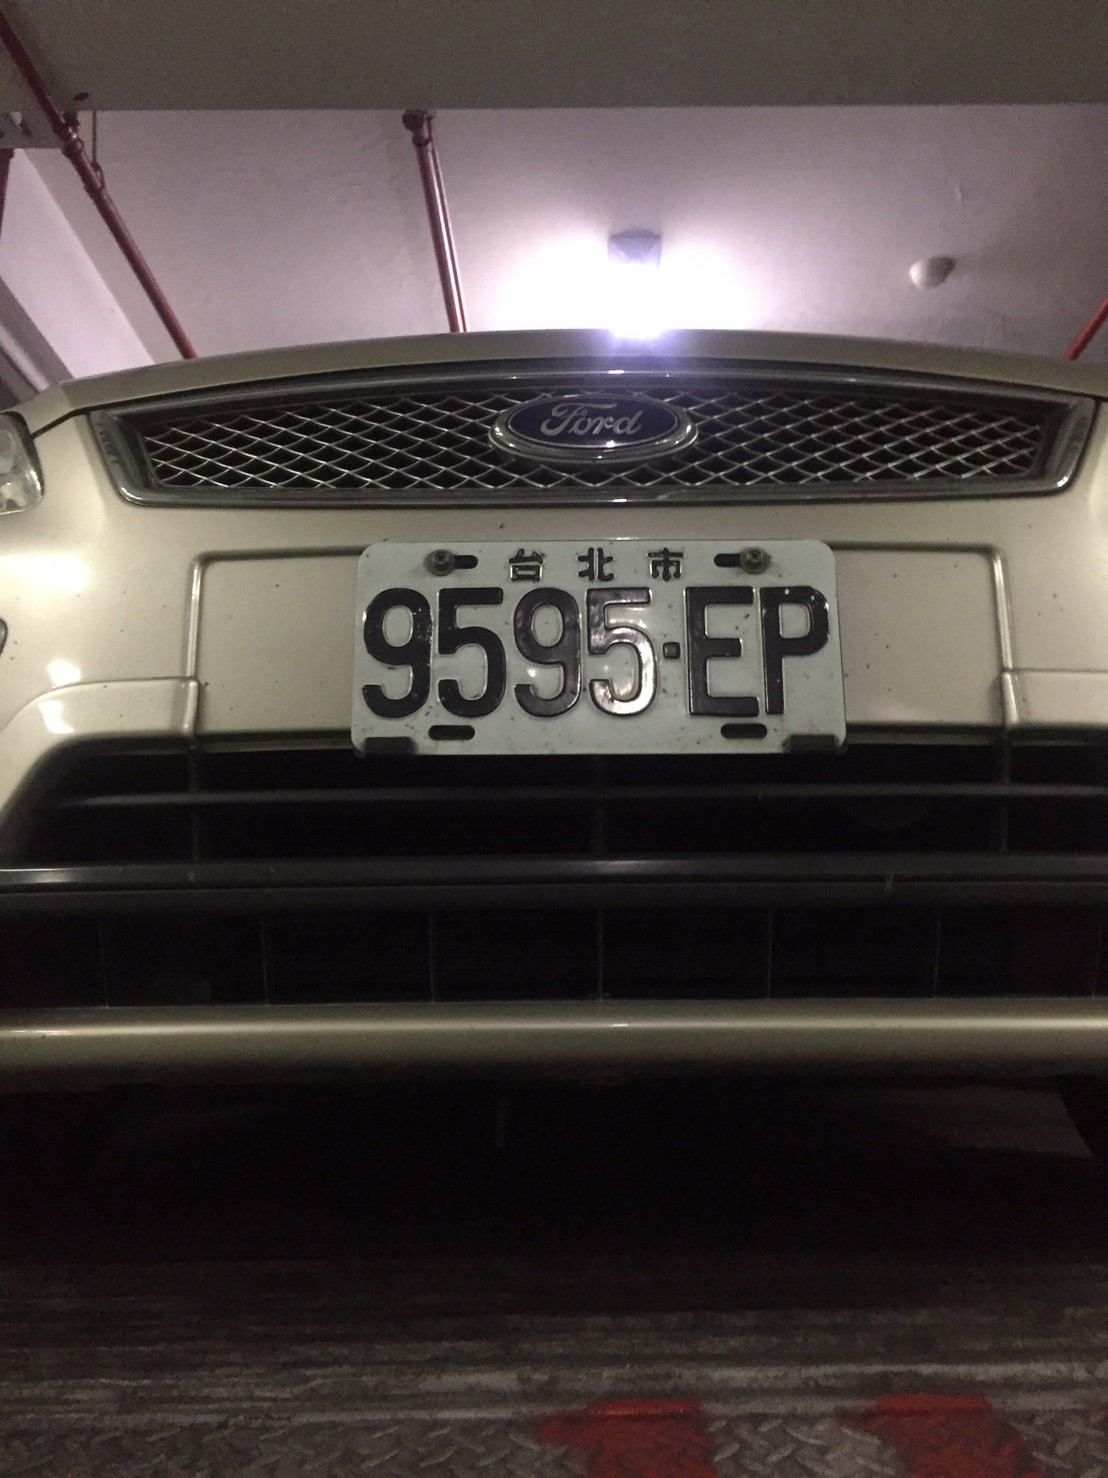LP: (346, 537, 841, 754)
